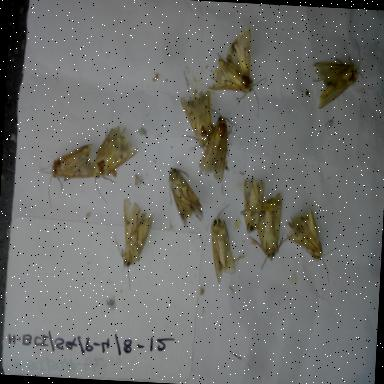abw: (204, 20, 270, 120), (106, 192, 156, 294), (305, 33, 368, 113), (36, 136, 98, 216), (280, 204, 341, 285), (85, 120, 141, 207), (246, 184, 294, 274), (194, 110, 237, 186), (174, 84, 222, 152), (203, 198, 240, 284), (161, 162, 206, 225), (235, 169, 270, 238)
